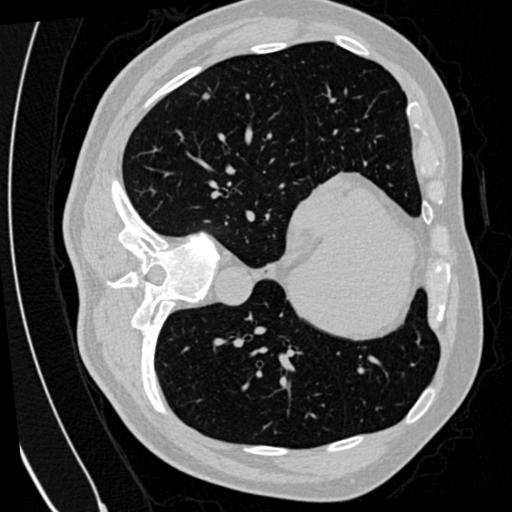nodule: (200, 88, 212, 101)
